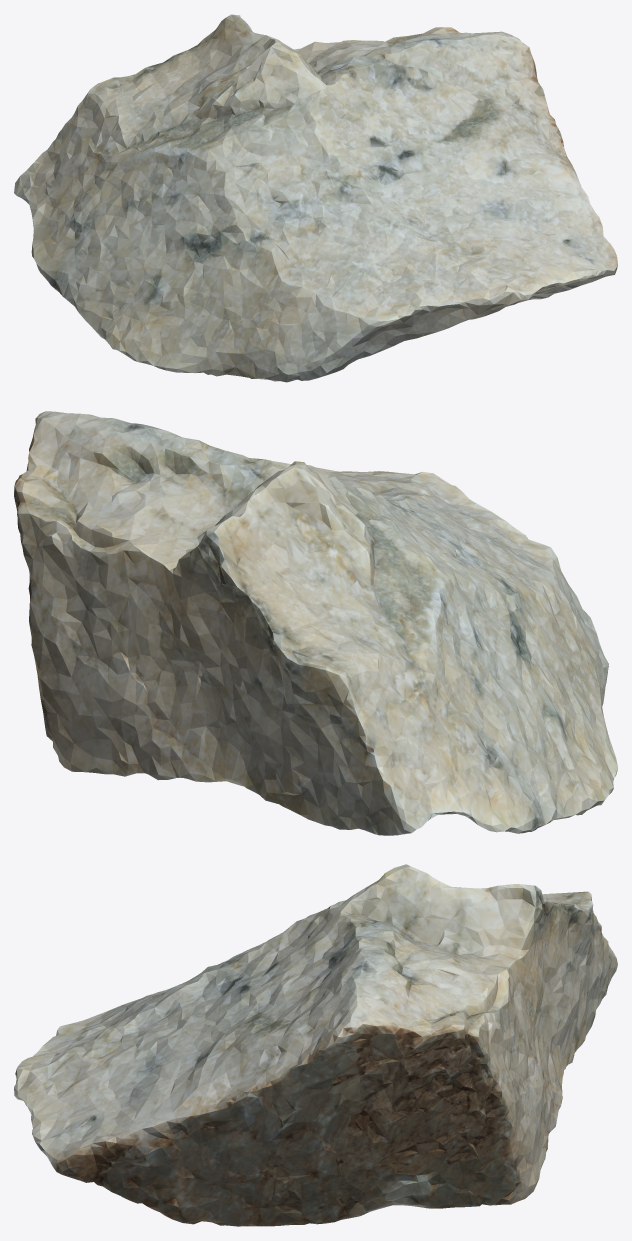
Rendered from marble_low.glb.
The picture shows the model from 3 angles, top to bottom: view 1: azimuth 30°, elevation 25°; view 2: azimuth 150°, elevation 25°; view 3: azimuth 270°, elevation 25°; orthographic projection. The views are drawn at different scales.
Visible parts, largest first — view 1: model.003; view 2: model.003; view 3: model.003.
Part boxes in pixels (box(x1,y1,x2,y2)): model.003: box(14, 14, 617, 382); model.003: box(14, 411, 617, 835); model.003: box(14, 864, 617, 1226).
Size of the model in its own units: 35.76 by 18.82 by 37.22.
Materials: 1 (1 with a texture image).
